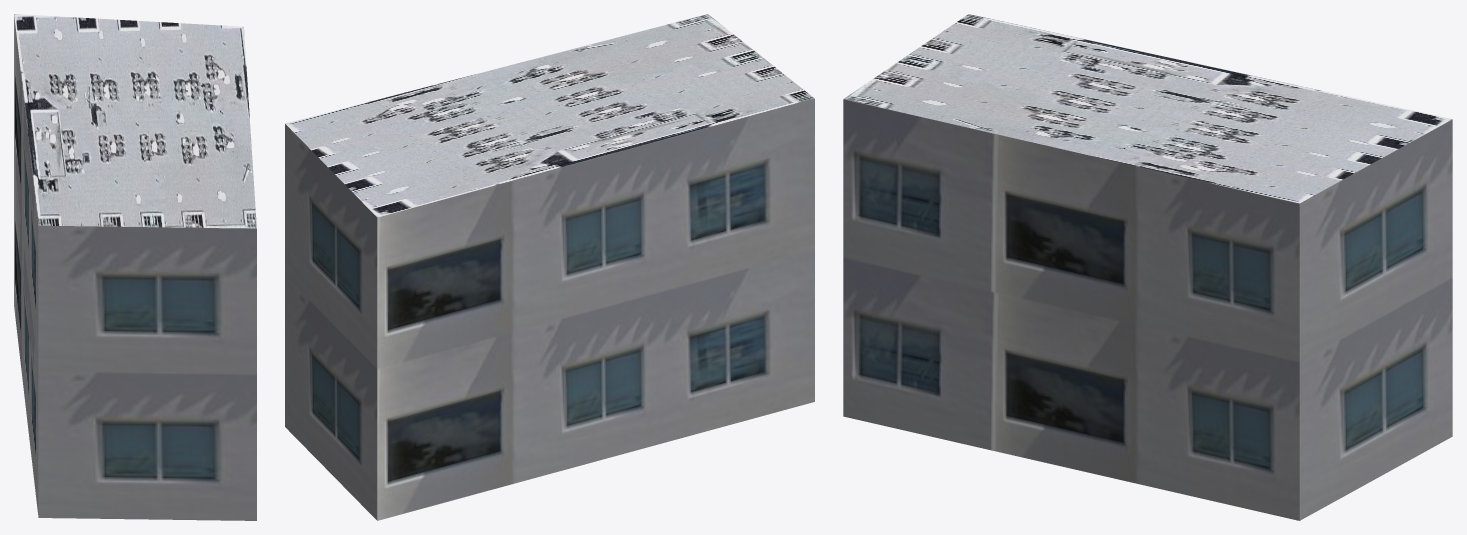
Rendered from ResTex__3785.fbx.
3 renders of one model, left to right at view 1: azimuth 30°, elevation 25°; view 2: azimuth 150°, elevation 25°; view 3: azimuth 270°, elevation 25°, orthographic. The views are drawn at different scales.
Parts seen in each view (by area): view 1: CityEngineMaterial_10_m, CityEngineMaterial_m; view 2: CityEngineMaterial_10_m, CityEngineMaterial_m; view 3: CityEngineMaterial_10_m, CityEngineMaterial_m.
Part boxes in pixels (bbox=[...]): CityEngineMaterial_10_m: bbox=[14, 15, 256, 520]; CityEngineMaterial_m: bbox=[14, 14, 256, 228]; CityEngineMaterial_10_m: bbox=[285, 98, 814, 520]; CityEngineMaterial_m: bbox=[285, 14, 814, 217]; CityEngineMaterial_10_m: bbox=[843, 99, 1452, 520]; CityEngineMaterial_m: bbox=[843, 14, 1452, 203].
Size of the model in its own units: 7.69 by 6 by 10.44.
Materials: 2 (2 with a texture image).
